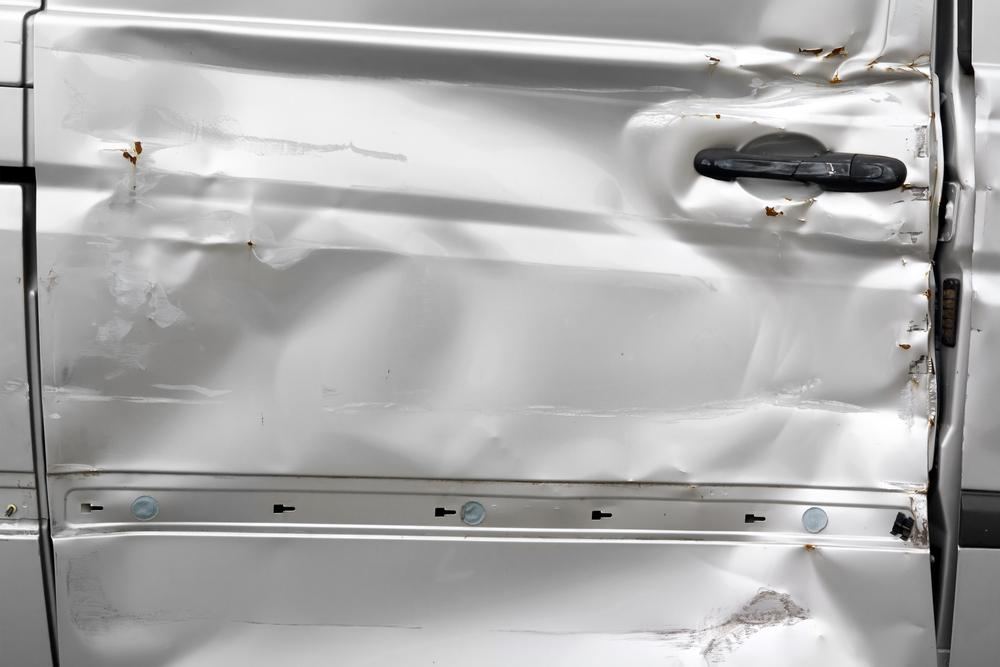dent: (50, 2, 929, 662)
